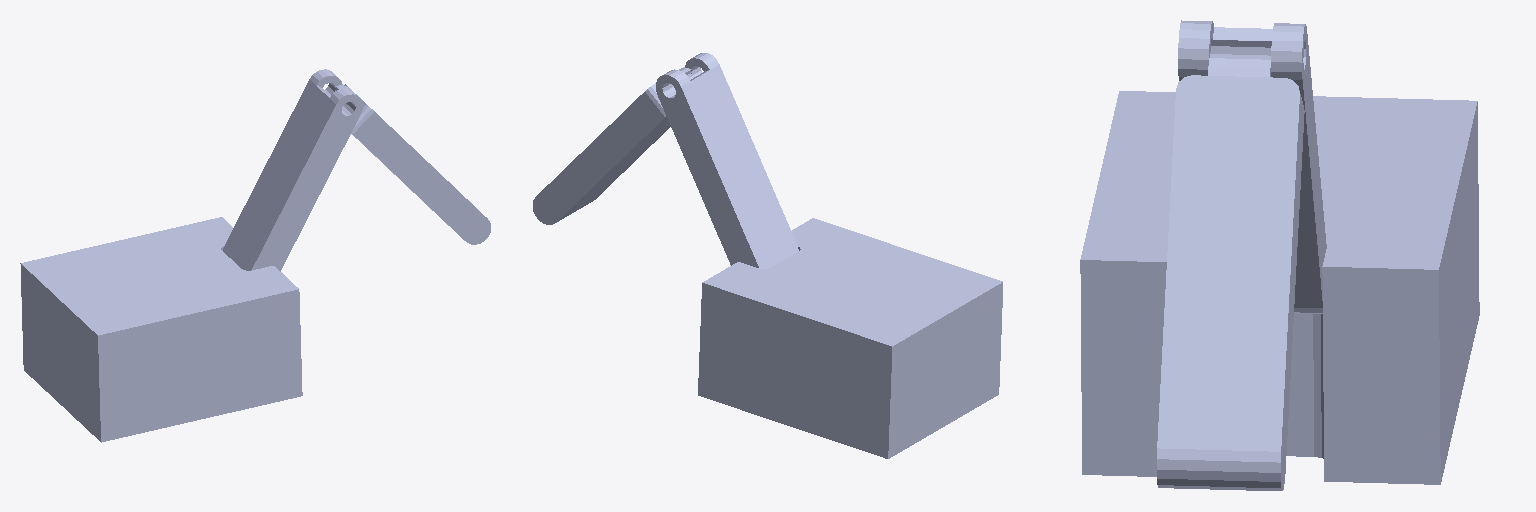
URDF robot description (finaldisco):
<?xml version="1.0" encoding="utf-8"?>
<!-- This URDF was automatically created by SolidWorks to URDF Exporter! Originally created by [author] ([email redacted]) 
     Commit Version: 1.6.0-1-g15f4949  Build Version: 1.6.7594.29634
     For more information, please see http://wiki.ros.org/sw_urdf_exporter -->
<robot
  name="finaldisco">
  <link
    name="base_link">
    <inertial>
      <origin
        xyz="-0.05856 -0.050352 0.0094433"
        rpy="0 0 0" />
      <mass
        value="0.073498" />
      <inertia
        ixx="1.925E-05"
        ixy="3.6044E-07"
        ixz="-3.9256E-07"
        iyy="2.318E-05"
        iyz="-5.8078E-08"
        izz="3.1391E-05" />
    </inertial>
    <visual>
      <origin
        xyz="0 0 0"
        rpy="0 0 0" />
      <geometry>
        <mesh
          filename="package://finaldisco/meshes/base_link.STL" />
      </geometry>
      <material
        name="">
        <color
          rgba="0.79216 0.81961 0.93333 1" />
      </material>
    </visual>
    <collision>
      <origin
        xyz="0 0 0"
        rpy="0 0 0" />
      <geometry>
        <mesh
          filename="package://finaldisco/meshes/base_link.STL" />
      </geometry>
    </collision>
  </link>
  <link
    name="Link 1">
    <inertial>
      <origin
        xyz="0.0243883058826035 0.0078282631552608 0"
        rpy="0 0 0" />
      <mass
        value="0.00665132741228719" />
      <inertia
        ixx="1.80501946067506E-07"
        ixy="1.65436122510606E-22"
        ixz="2.22821777506472E-22"
        iyy="1.57951267710339E-06"
        iyz="3.97046694025453E-23"
        izz="1.68762618694272E-06" />
    </inertial>
    <visual>
      <origin
        xyz="0 0 0"
        rpy="0 0 0" />
      <geometry>
        <mesh
          filename="package://finaldisco/meshes/Link 1.STL" />
      </geometry>
      <material
        name="">
        <color
          rgba="0.792156862745098 0.819607843137255 0.933333333333333 1" />
      </material>
    </visual>
    <collision>
      <origin
        xyz="0 0 0"
        rpy="0 0 0" />
      <geometry>
        <mesh
          filename="package://finaldisco/meshes/Link 1.STL" />
      </geometry>
    </collision>
  </link>
  <joint
    name="Theta 1"
    type="revolute">
    <origin
      xyz="-0.033181 -0.044796 0.02141"
      rpy="-3.1192 -1.0613 -0.10885" />
    <parent
      link="base_link" />
    <child
      link="Link 1" />
    <axis
      xyz="0 1 0" />
    <limit
      lower="0"
      upper="0"
      effort="0"
      velocity="0" />
  </joint>
  <link
    name="Link 2">
    <inertial>
      <origin
        xyz="0.0302514926730713 -6.93889390390723E-18 0.00782826315526088"
        rpy="0 0 0" />
      <mass
        value="0.00695318083143008" />
      <inertia
        ixx="1.8165099810535E-07"
        ixy="-1.70140712244501E-22"
        ixz="-4.05318500150984E-23"
        iyy="1.86549938464174E-06"
        iyz="7.94093388050907E-23"
        izz="1.75673967648042E-06" />
    </inertial>
    <visual>
      <origin
        xyz="0 0 0"
        rpy="0 0 0" />
      <geometry>
        <mesh
          filename="package://finaldisco/meshes/Link 2.STL" />
      </geometry>
      <material
        name="">
        <color
          rgba="0.792156862745098 0.819607843137255 0.933333333333333 1" />
      </material>
    </visual>
    <collision>
      <origin
        xyz="0 0 0"
        rpy="0 0 0" />
      <geometry>
        <mesh
          filename="package://finaldisco/meshes/Link 2.STL" />
      </geometry>
    </collision>
  </link>
  <joint
    name="Theta 2"
    type="revolute">
    <origin
      xyz="0.05 0 0"
      rpy="1.5708 -1.2277 3.1416" />
    <parent
      link="Link 1" />
    <child
      link="Link 2" />
    <axis
      xyz="0 0 1" />
    <limit
      lower="0"
      upper="0"
      effort="0"
      velocity="0" />
  </joint>
</robot>

--- Facts derived from the render (not from the file) ---
3 views of the same robot in one strip: view 1: azimuth 30°, elevation 25°; view 2: azimuth 150°, elevation 25°; view 3: azimuth 270°, elevation 25° (orthographic).
Model finaldisco with 3 links and 2 joints (2 revolute), rooted at base_link, posed all joints at 0.
Links seen in each view (by area): view 1: base_link, Link 1, Link 2; view 2: base_link, Link 1, Link 2; view 3: base_link, Link 2, Link 1.
Boxes of the visible links, x1=… form: base_link: x1=20, y1=217, x2=302, y2=442; Link 1: x1=223, y1=69, x2=362, y2=271; Link 2: x1=336, y1=84, x2=490, y2=244; base_link: x1=698, y1=218, x2=1002, y2=458; Link 1: x1=656, y1=53, x2=798, y2=268; Link 2: x1=533, y1=67, x2=691, y2=224; base_link: x1=1080, y1=91, x2=1479, y2=484; Link 2: x1=1157, y1=54, x2=1304, y2=490; Link 1: x1=1178, y1=20, x2=1326, y2=313.
Size in the robot's own frame: 0.1183 by 0.0513 by 0.0758 metres.
Meshes: 3 distinct files referenced, 3 mesh visuals loaded (3 binary STL).